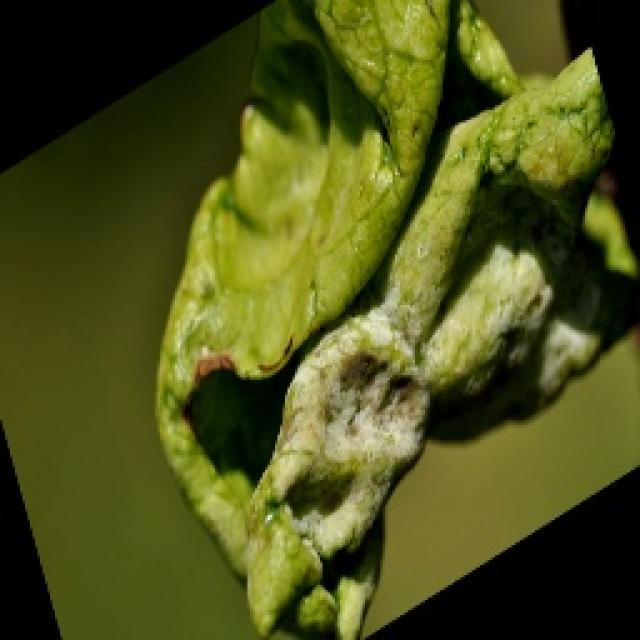peach_leaf_curl: (150, 0, 638, 638)
